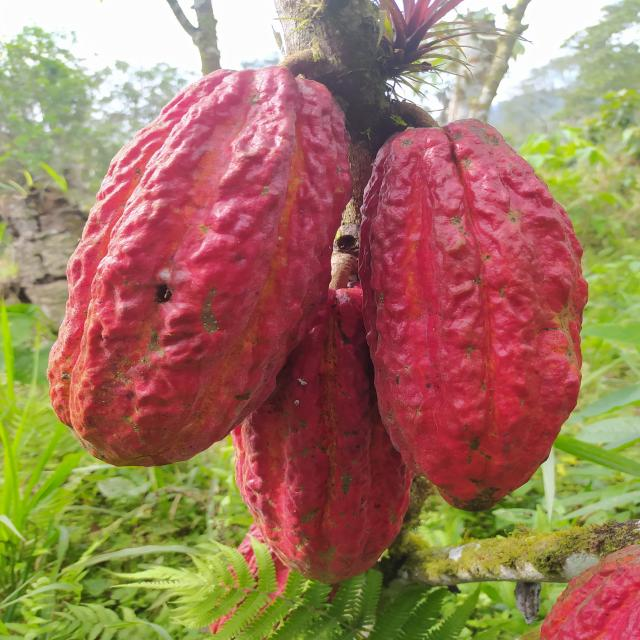Sana: (43, 73, 351, 469), (358, 118, 590, 515), (230, 285, 412, 588)
